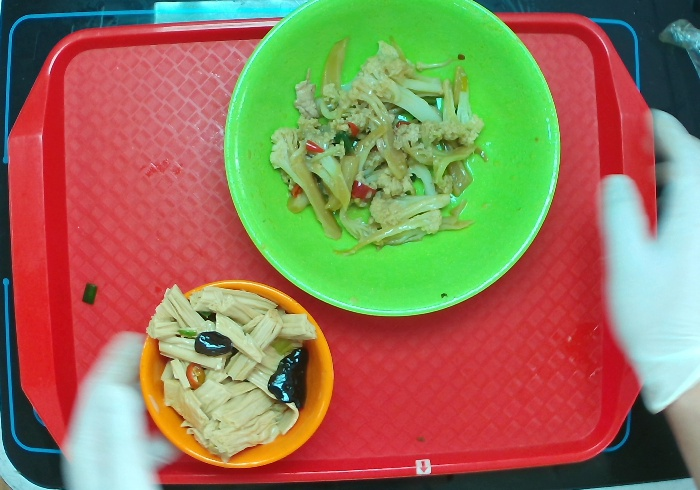YKMZ-Ju_Se_Yuan_Wan: (138, 277, 335, 469)
YKMZ-Lv_Se_Tang_Wan: (222, 1, 561, 320)
